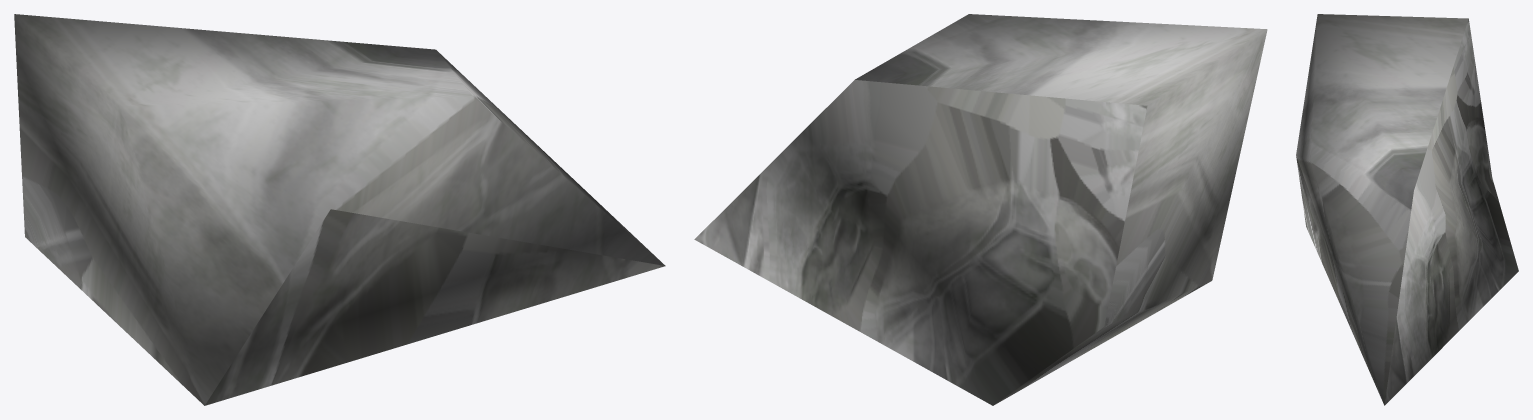
File: 10_R_Chica_LOD_2.fbx
3 views of the same model, side by side, from view 1: azimuth 30°, elevation 25°; view 2: azimuth 150°, elevation 25°; view 3: azimuth 270°, elevation 25° (orthographic). The views are drawn at different scales.
Visible parts, largest first — view 1: 10_R_Chica_LOD_2; view 2: 10_R_Chica_LOD_2; view 3: 10_R_Chica_LOD_2.
Part boxes in pixels (x1,y1,x2,y2): 10_R_Chica_LOD_2: (14,14,665,405); 10_R_Chica_LOD_2: (694,14,1267,405); 10_R_Chica_LOD_2: (1296,14,1518,405).
Bounding box in the file's own units: 2021 × 1116 × 1061.
